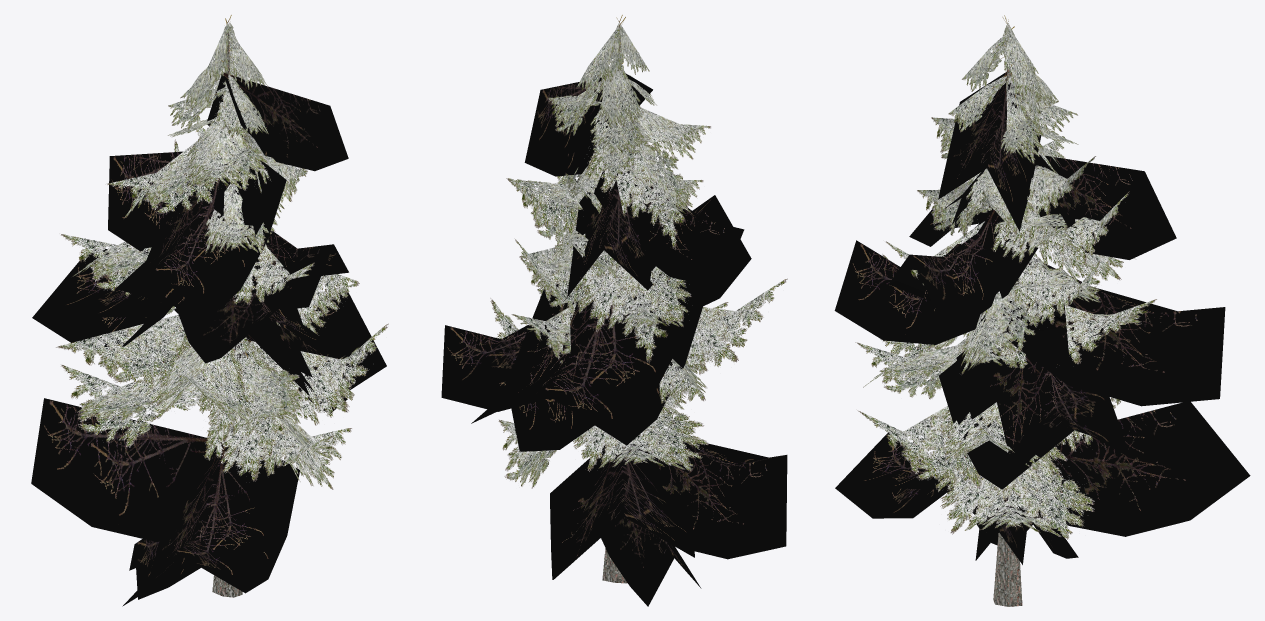
Rendered from Win_Pine01.DAE.
3 renders of one model, left to right at view 1: azimuth 30°, elevation 25°; view 2: azimuth 150°, elevation 25°; view 3: azimuth 270°, elevation 25°, orthographic. The views are drawn at different scales.
Parts seen in each view (by area): view 1: tree200, tree256; view 2: tree200, tree256; view 3: tree200, tree256.
Part boxes in pixels (left/top/right/bottom): tree200: left=31, top=19, right=359, bottom=599; tree256: left=32, top=15, right=388, bottom=606; tree200: left=442, top=29, right=768, bottom=606; tree256: left=441, top=15, right=787, bottom=605; tree200: left=835, top=16, right=1190, bottom=588; tree256: left=835, top=15, right=1250, bottom=606.
Size of what is drawn, in the model's own units: 783 by 896 by 1353.
